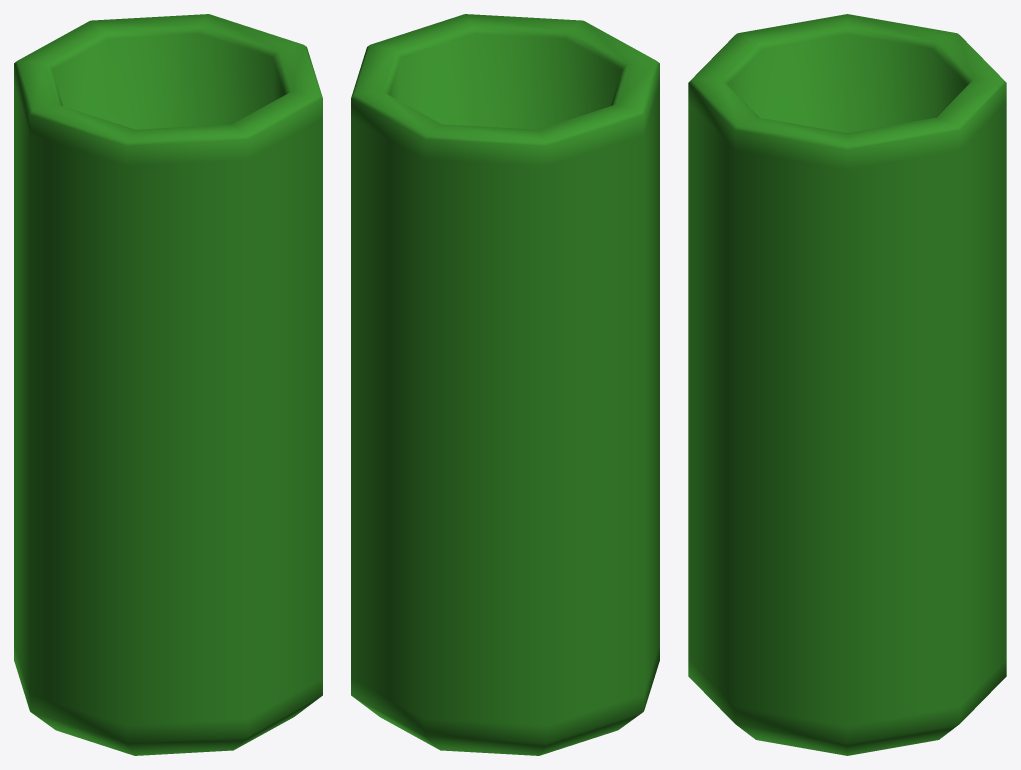
The model's file is Bottle_02.fbx.
3 views of the same model, side by side, from view 1: azimuth 30°, elevation 25°; view 2: azimuth 150°, elevation 25°; view 3: azimuth 270°, elevation 25° (orthographic).
Visible parts, largest first — view 1: Bottle_02; view 2: Bottle_02; view 3: Bottle_02.
Boxes of the visible parts, x1,y1,x2,y2 form: Bottle_02: (14, 14, 322, 755); Bottle_02: (351, 14, 659, 755); Bottle_02: (688, 14, 1006, 755).
Size of the model in its own units: 9.21 by 9.21 by 19.85.
Materials: 1 (1 with a texture image).
